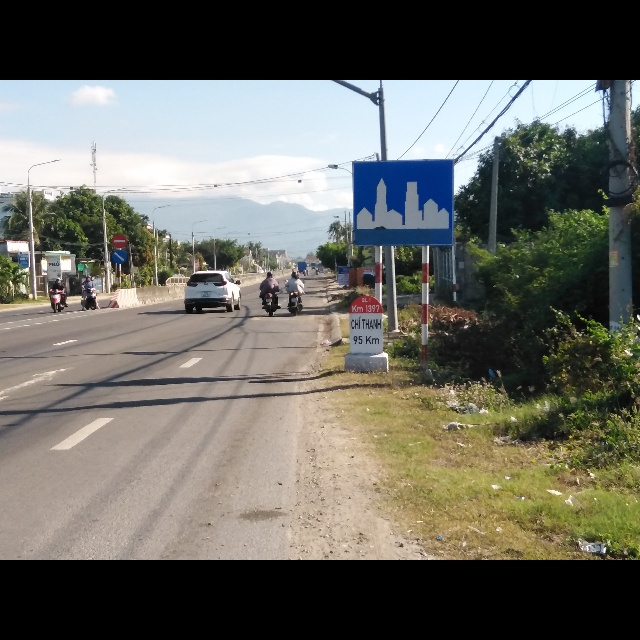Khu đông dân cư: (350, 159, 455, 246)
